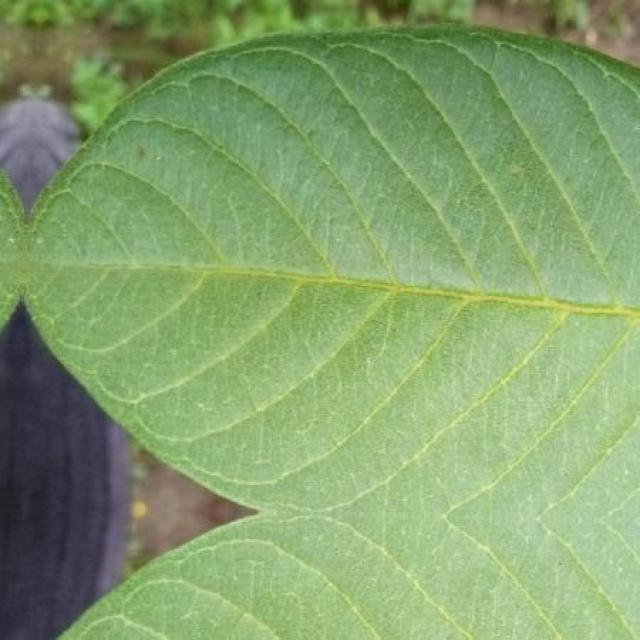Disease Free: (0, 28, 640, 640)
